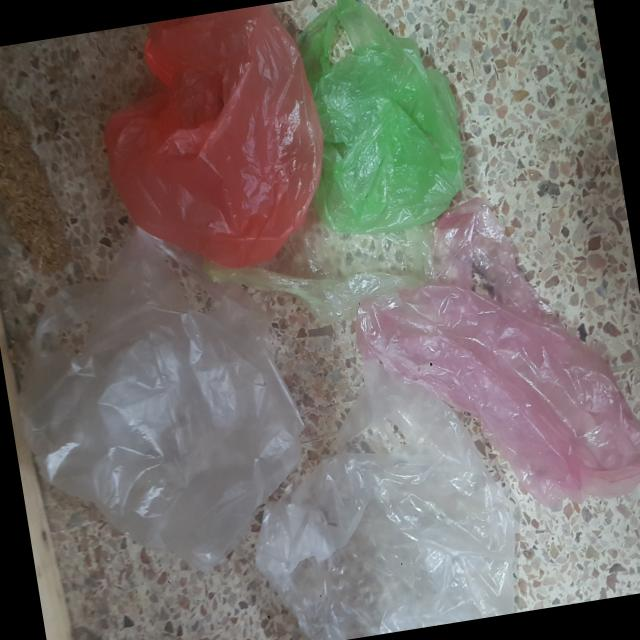general: (0, 243, 312, 554), (359, 197, 640, 536), (85, 0, 342, 287)
